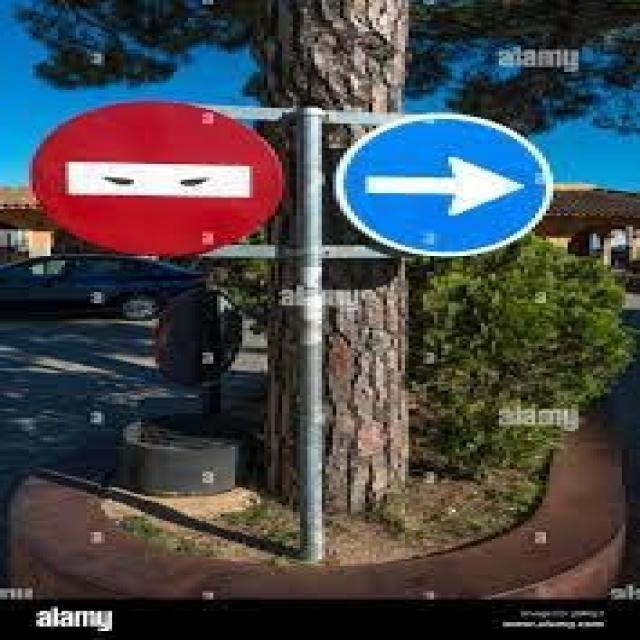compulsory_keep_right: (336, 99, 559, 281)
